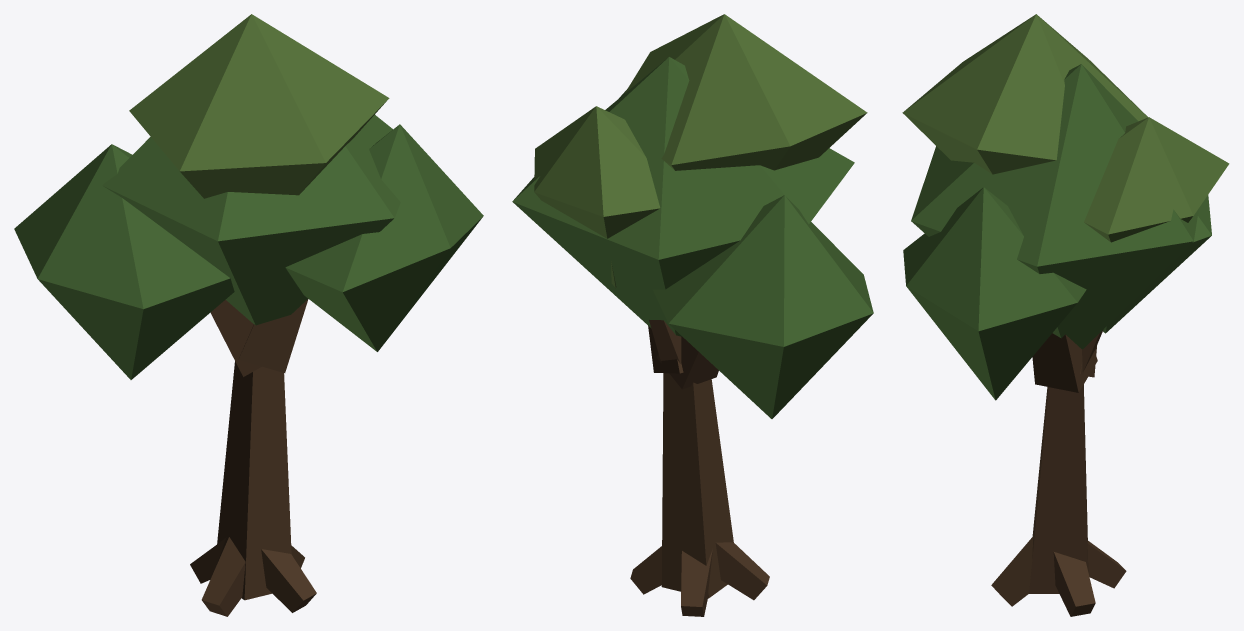
The model's file is tree_broad_a.glb.
The picture shows the model from 3 angles, left to right: view 1: azimuth 30°, elevation 25°; view 2: azimuth 150°, elevation 25°; view 3: azimuth 270°, elevation 25°; orthographic projection. The views are drawn at different scales.
Parts seen in each view (by area): view 1: crown.003, crown.001, crown, crown.002, bole, fork.001, root.003, root.002, fork, root.001; view 2: crown.001, crown, crown.003, bole, crown.004, root.002, root.001, fork, root, fork.002, fork.001; view 3: crown, crown.002, crown.003, crown.004, bole, fork.001, root, root.003, crown.001, root.001.
Boxes of the visible parts, <box> form: crown.003: <box>129,14,389,198</box>; crown.001: <box>14,144,234,379</box>; crown: <box>102,115,400,325</box>; crown.002: <box>285,124,483,351</box>; bole: <box>216,361,291,600</box>; fork.001: <box>238,299,308,373</box>; root.003: <box>261,549,316,612</box>; root.002: <box>201,537,245,616</box>; fork: <box>210,300,261,376</box>; root.001: <box>190,538,225,583</box>; crown.001: <box>653,195,873,418</box>; crown: <box>512,56,854,336</box>; crown.003: <box>624,14,867,170</box>; bole: <box>661,373,733,598</box>; crown.004: <box>534,106,660,287</box>; root.002: <box>715,542,769,600</box>; root.001: <box>681,549,712,616</box>; fork: <box>656,336,718,389</box>; root: <box>630,546,661,594</box>; fork.002: <box>649,320,681,363</box>; fork.001: <box>648,326,683,373</box>; crown: <box>911,64,1198,349</box>; crown.002: <box>903,187,1086,400</box>; crown.003: <box>902,14,1147,174</box>; crown.004: <box>1084,117,1229,242</box>; bole: <box>1029,384,1088,593</box>; fork.001: <box>1032,333,1097,392</box>; root: <box>1053,552,1095,616</box>; root.003: <box>991,536,1033,606</box>; crown.001: <box>1103,195,1211,333</box>; root.001: <box>1087,541,1126,588</box>.
Bounding box in the file's own units: 57.42 × 84.13 × 43.51.
